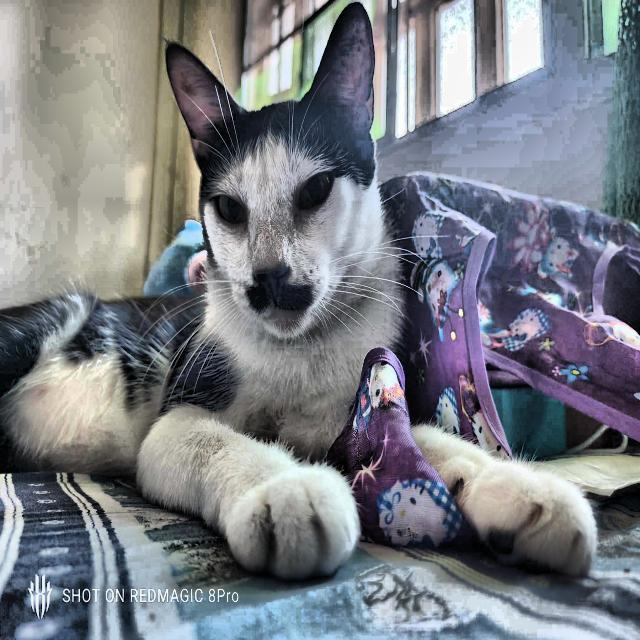Healthy skin: (153, 377, 350, 571), (468, 458, 604, 587)
